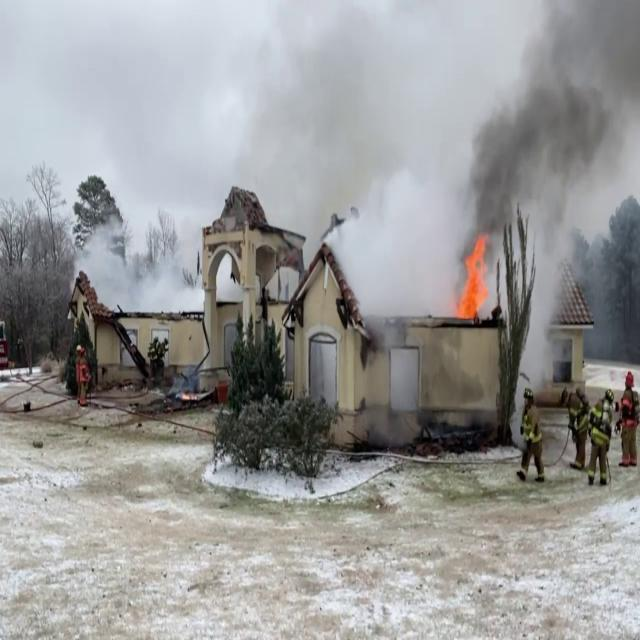Fire: (454, 228, 494, 322)
Smoke: (455, 0, 640, 234), (73, 218, 198, 314)
